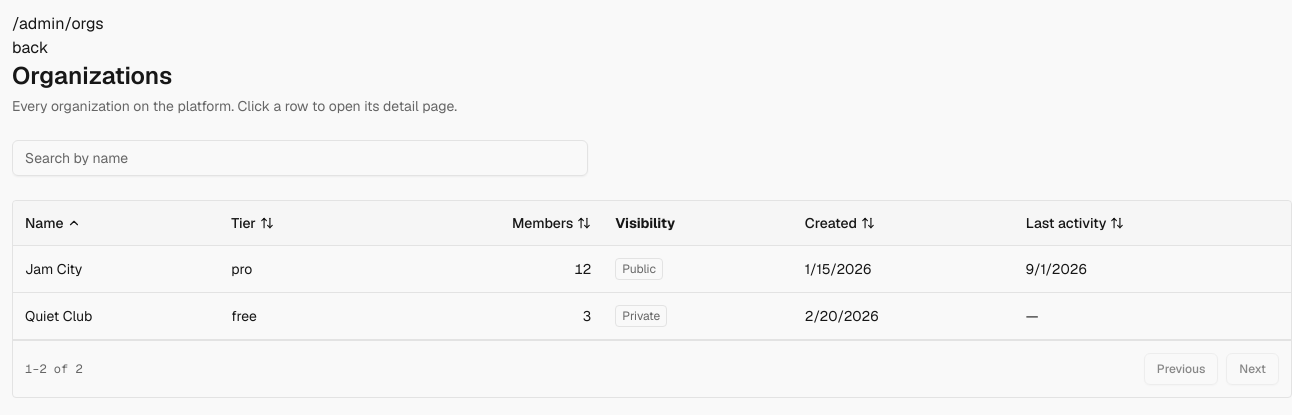
Test: Organizations › navigates to org detail on row click
What coordinates should you click on to do the following:
click the text "Jam City"
I would click on:
 (54, 269)
Its box is [13,246,219,292].
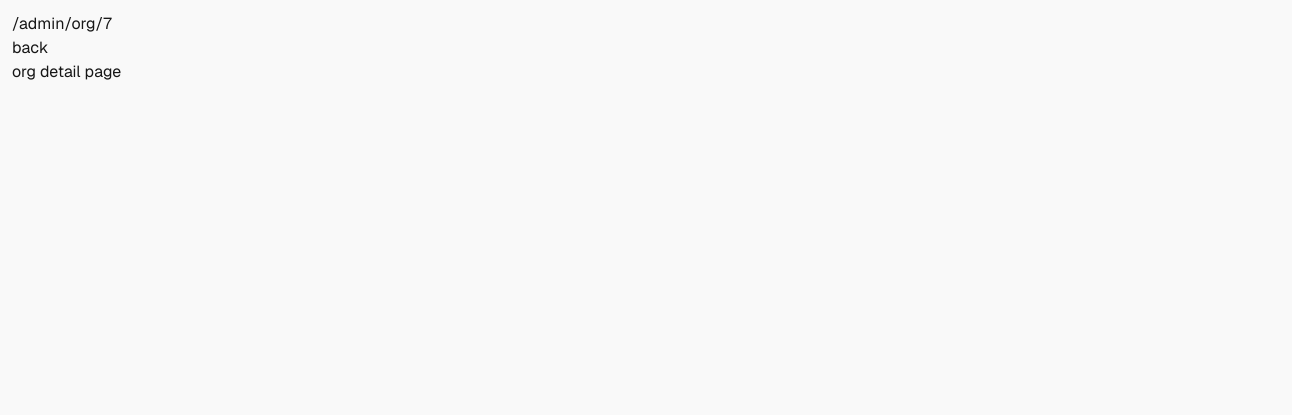
expect the text "org detail page" is shown: met, box [12,61,121,82]
expect the text with test id "location" reads "/admin/org/7": met, box [12,13,112,34]
